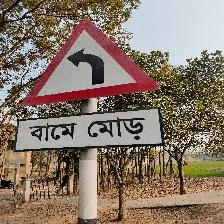Left-Turn: (14, 18, 164, 150)
